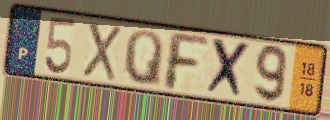5: (43, 16, 77, 76)
9: (251, 44, 290, 106)
F: (164, 29, 211, 94)
Q: (122, 28, 166, 89)
X: (202, 35, 253, 102), (80, 20, 123, 84)
